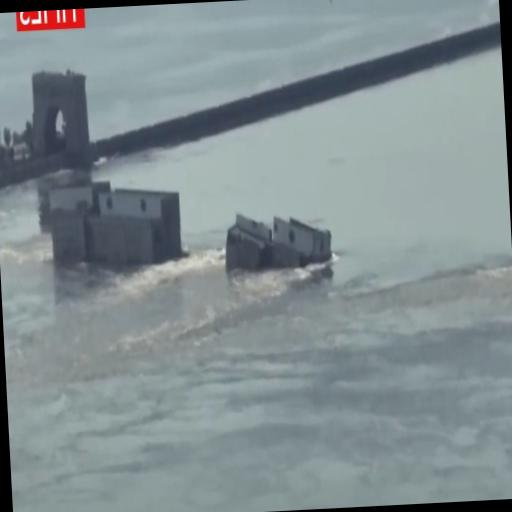flood: (0, 176, 512, 512), (92, 48, 512, 300), (0, 0, 500, 138)
house: (42, 169, 184, 290), (218, 194, 336, 292)
